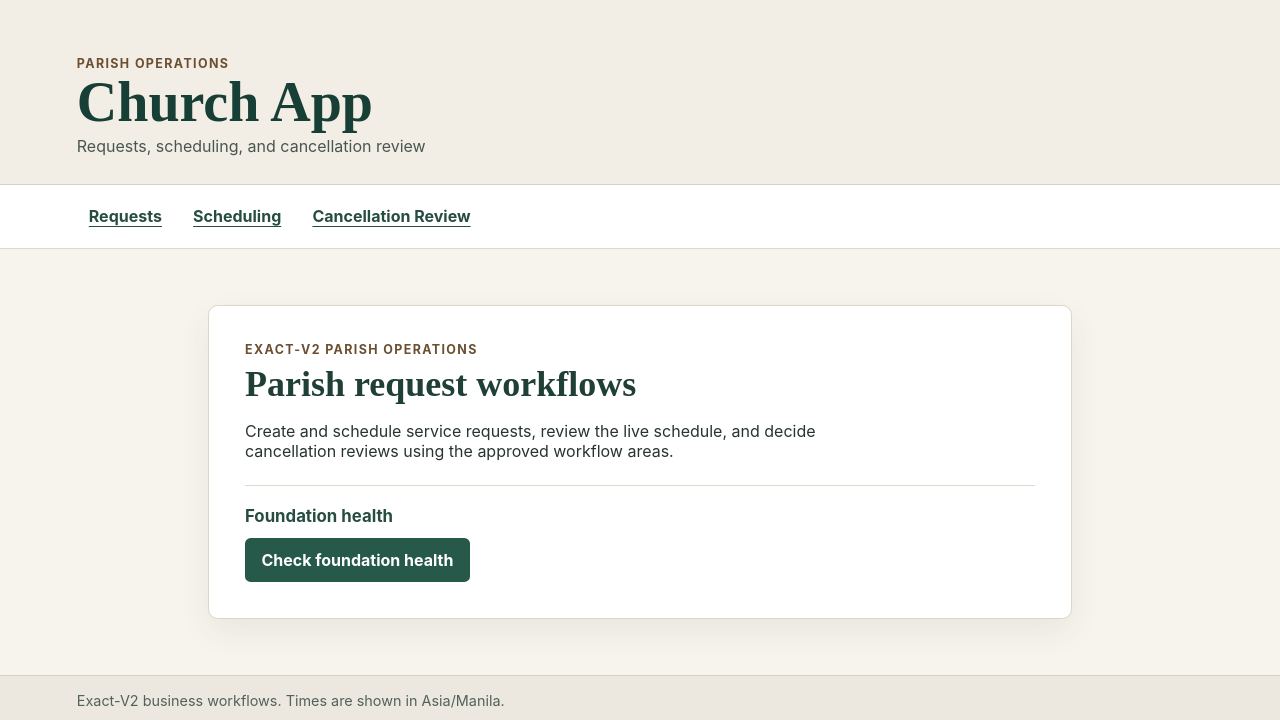
Test: application foundation › renders a safe health error without exposing the backend error
Click the button "Check foundation health".
click(357, 560)  # box [245,538,470,582]
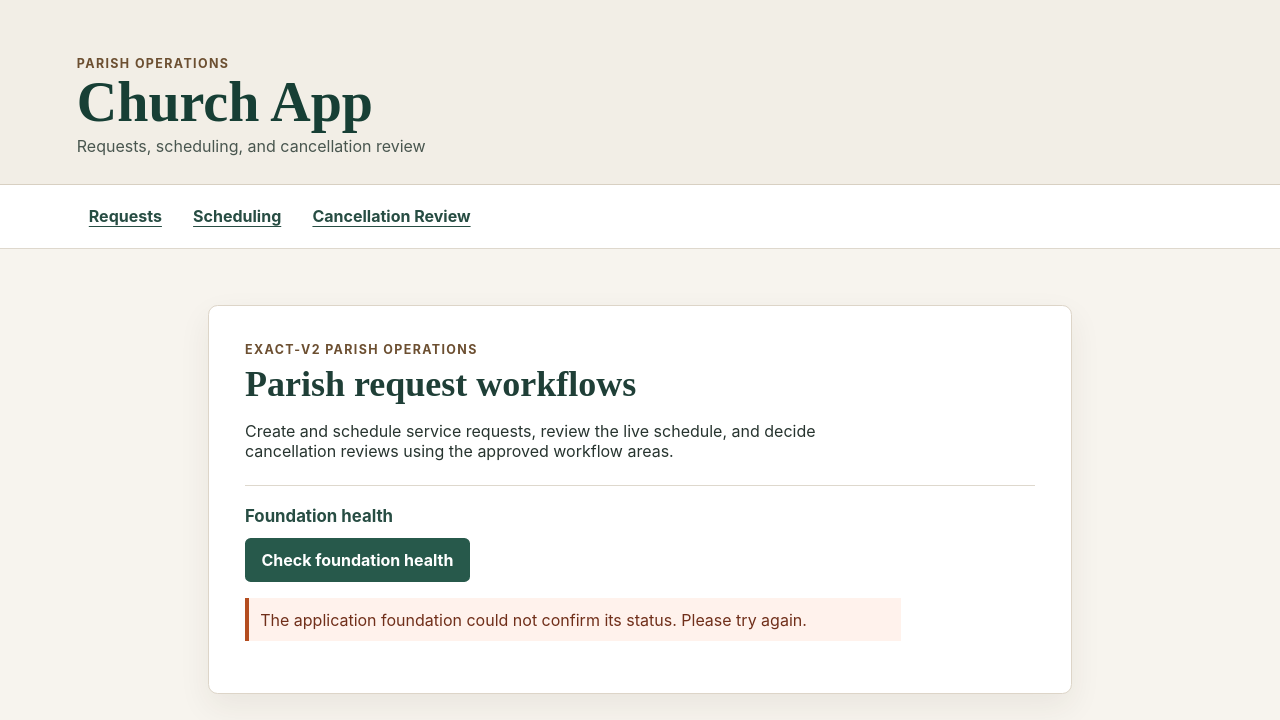
Check: the message reads "The application foundation could not confirm its status. Please try again.", box [260,610,807,630]
